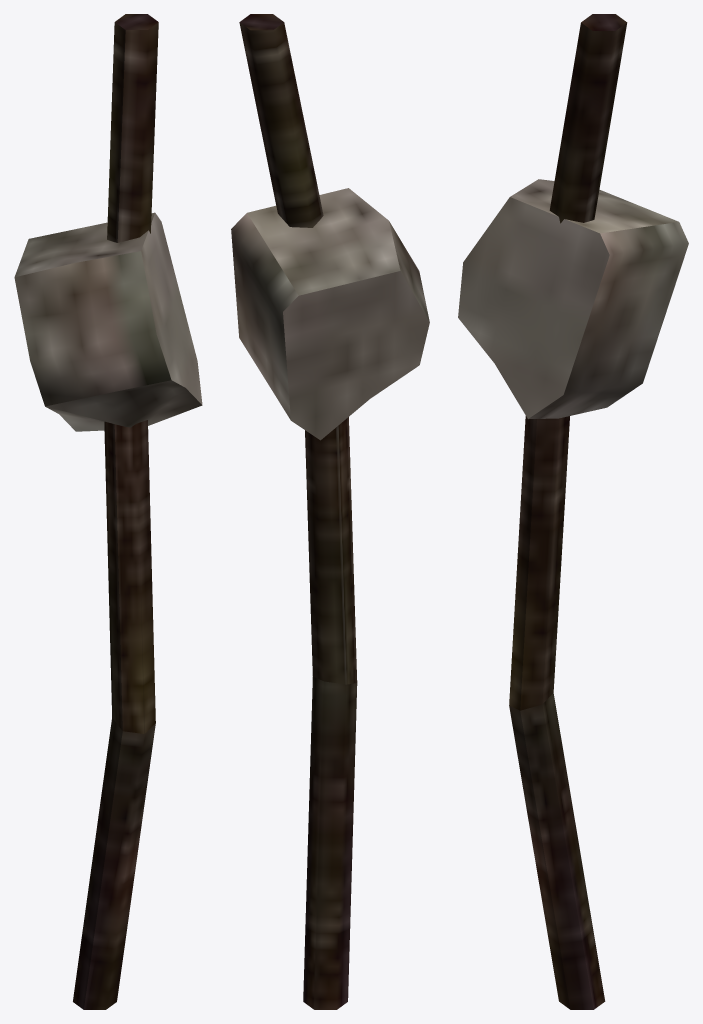
The model's file is rebar002a_32.glb.
3 views of the same model, side by side, from view 1: azimuth 30°, elevation 25°; view 2: azimuth 150°, elevation 25°; view 3: azimuth 270°, elevation 25° (orthographic). The views are drawn at different scales.
Visible parts, largest first — view 1: 0_rebar_concrete001; view 2: 0_rebar_concrete001; view 3: 0_rebar_concrete001.
Boxes of the visible parts, x1,y1,x2,y2 form: 0_rebar_concrete001: (14, 14, 202, 1009); 0_rebar_concrete001: (231, 14, 429, 1009); 0_rebar_concrete001: (458, 14, 688, 1009).
Bounding box in the file's own units: 0.1575 × 0.8128 × 0.1692.
1 material, 1 textured.
